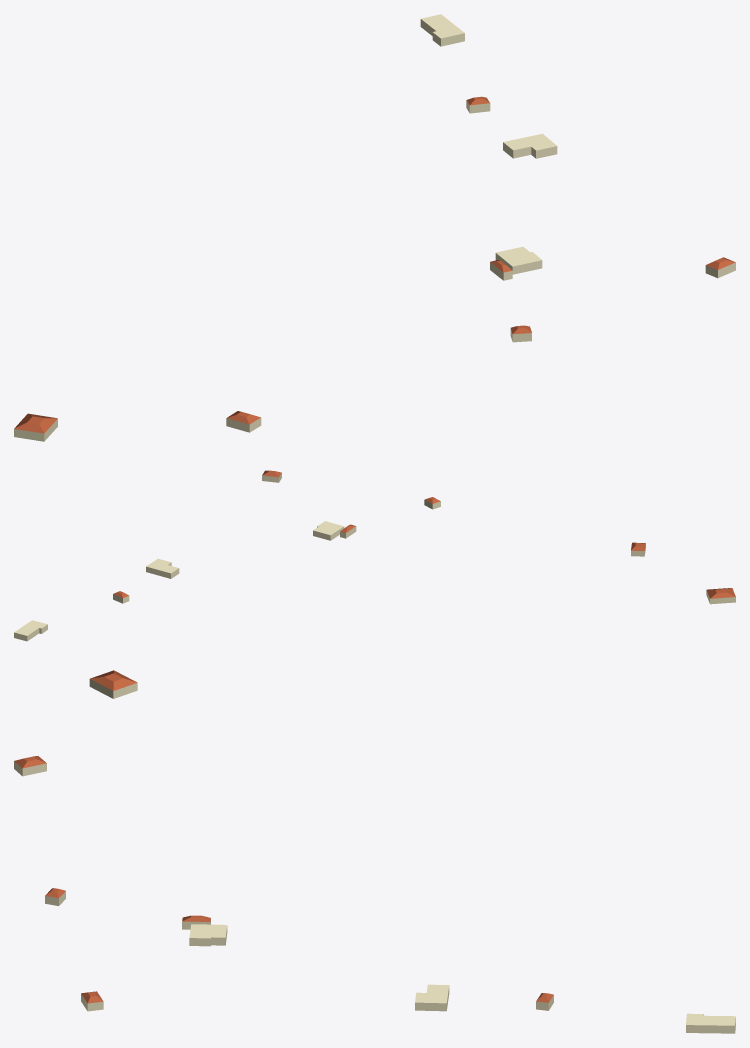
Rendered from msb_noord_m16_m15.glb.
The picture shows the model from 3 angles, top to bottom: view 1: azimuth 30°, elevation 25°; view 2: azimuth 150°, elevation 25°; view 3: azimuth 270°, elevation 25°; orthographic projection. The views are drawn at different scales.
Parts seen in each view (by area): view 1: msb_noord_m16_m15_lod0; view 2: msb_noord_m16_m15_lod0; view 3: msb_noord_m16_m15_lod0.
Boxes of the visible parts, left/top/right/bottom form: msb_noord_m16_m15_lod0: left=14, top=14, right=735, bottom=441; msb_noord_m16_m15_lod0: left=14, top=470, right=735, bottom=641; msb_noord_m16_m15_lod0: left=14, top=670, right=735, bottom=1033.
Size of what is drawn, in the model's own units: 335 by 7.93 by 288.
